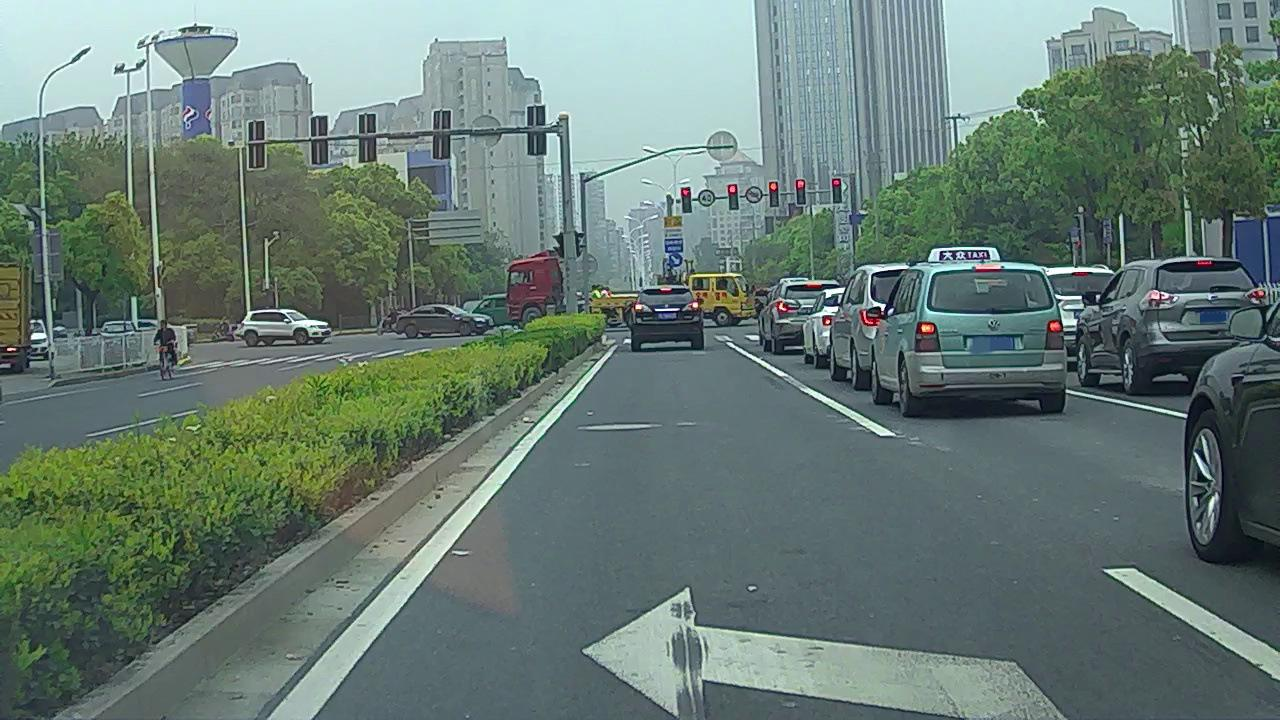traffic_light: (727, 184, 740, 209), (796, 177, 807, 206), (682, 185, 693, 213), (831, 175, 842, 202), (770, 180, 780, 205)
